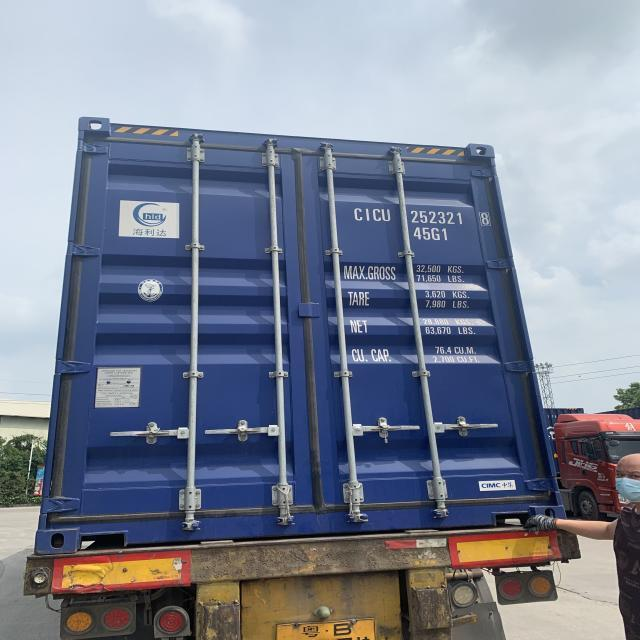ISO: (414, 226, 449, 242)
container_number: (354, 206, 484, 226)
